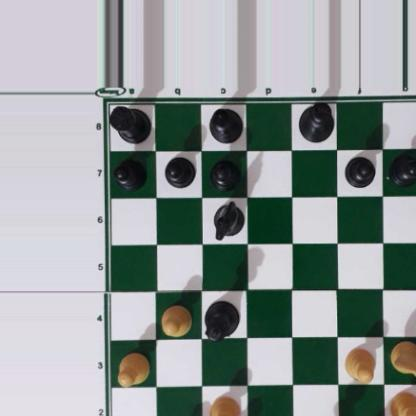black-bishop: (206, 107, 245, 143)
black-king: (297, 101, 334, 143)
black-knight: (211, 200, 245, 240)
black-pawn: (113, 157, 146, 188), (344, 153, 375, 186), (164, 155, 193, 188), (210, 156, 239, 189), (390, 152, 416, 185)
black-queen: (203, 299, 241, 341)
black-rook: (106, 101, 150, 143)
white-knight: (391, 339, 416, 379)
white-pawn: (115, 351, 149, 386), (344, 346, 375, 383), (159, 303, 192, 336), (388, 390, 416, 416), (207, 394, 240, 416)
